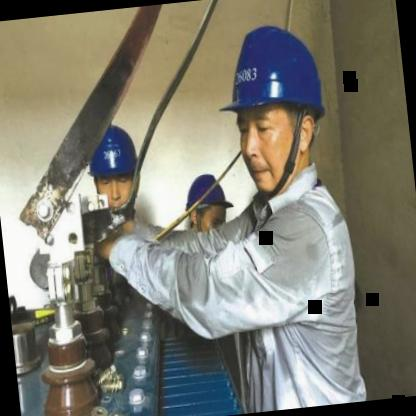helmet: (202, 9, 336, 204), (80, 120, 148, 222), (176, 164, 236, 244)
